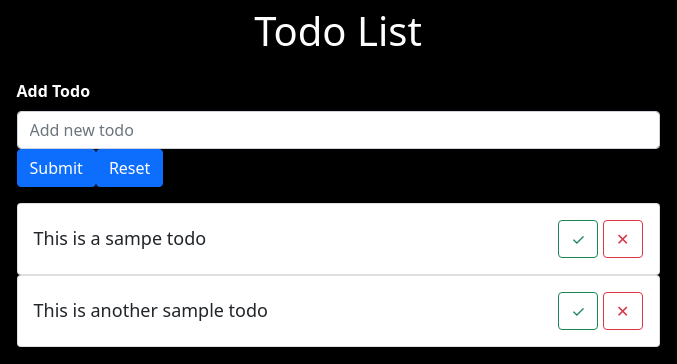
Test: Test todo app › Reset todo list
Click the reset button.
click(130, 168)  # box [96,149,164,187]
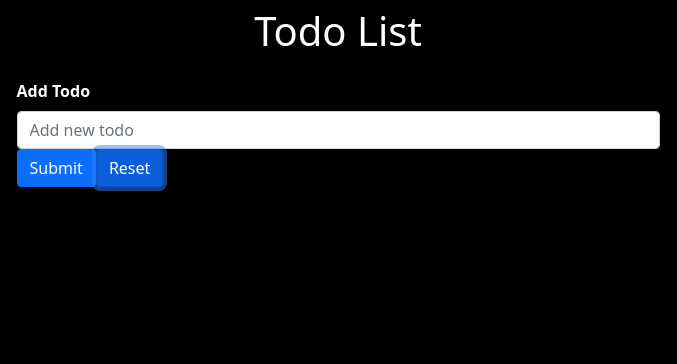
Expected: no elements with class "todo" are shown
